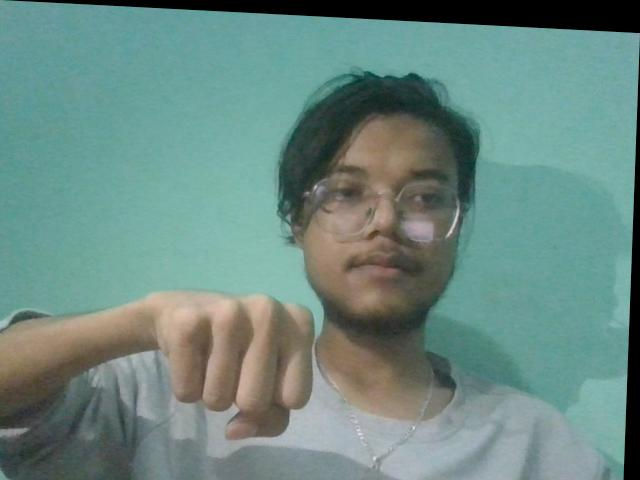Yes: (133, 270, 338, 450)
